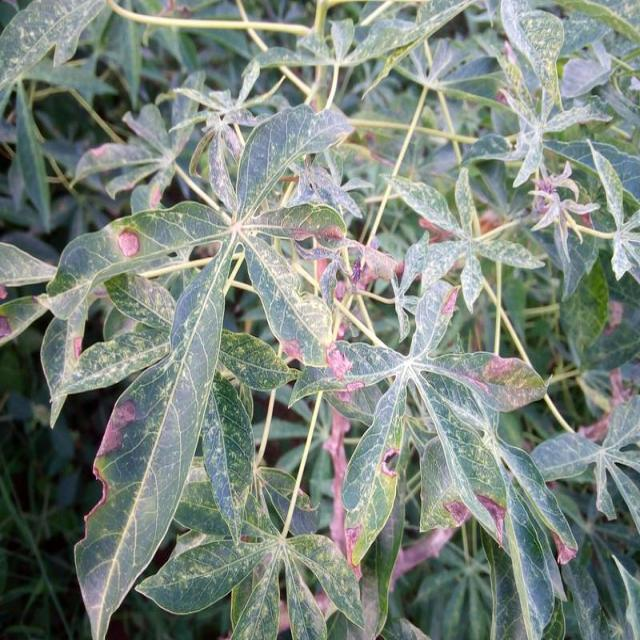cassava leaf: (1, 1, 636, 638), (72, 233, 236, 638)
